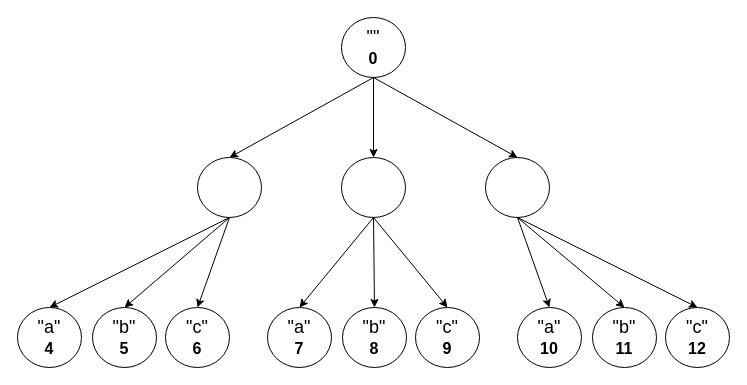
The diagram is 747 pixels wide and 385 high, and some of its shapes have lost their labels. The shapes that lost their labels are listed below. From the top down, each one's centre as x and y in pixels, then its label:
point (229, 187): "a" 1
point (373, 187): "b" 2
point (517, 187): "c" 3
